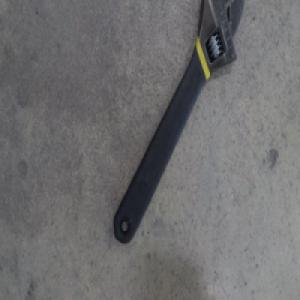AdjustableWrench: (114, 0, 244, 246)
